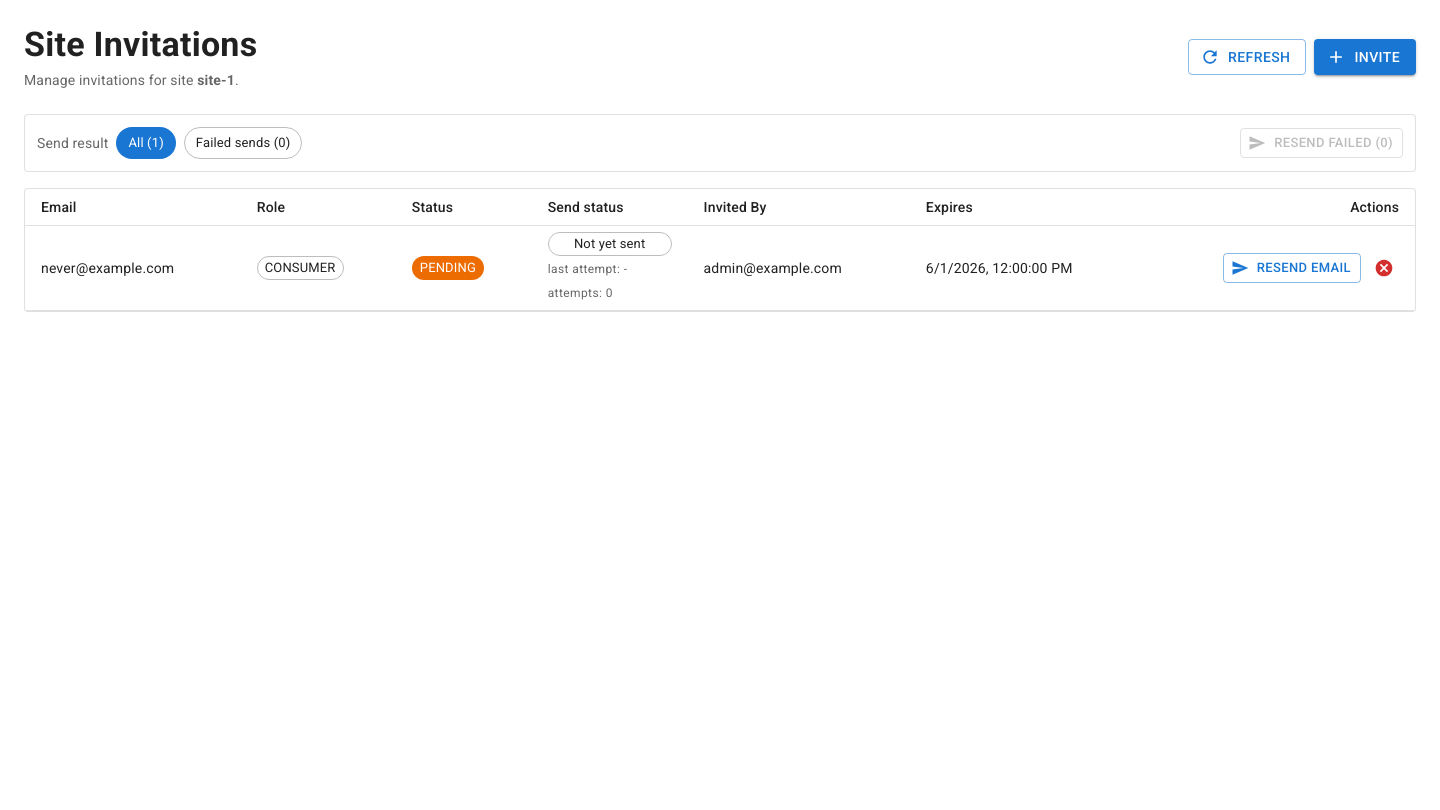
Test: SiteInvitationsPage Resend confirmation flow › keeps the dialog open and surfaces DTO failure when resend returns FAILED
expect the text "never@example.com" is shown: met, box x1=41 y1=260 x2=174 y2=276
Step 1. Click the button with aria-label "Resend invitation to never@example.com" → [1292, 268], box x1=1223 y1=252 x2=1361 y2=283
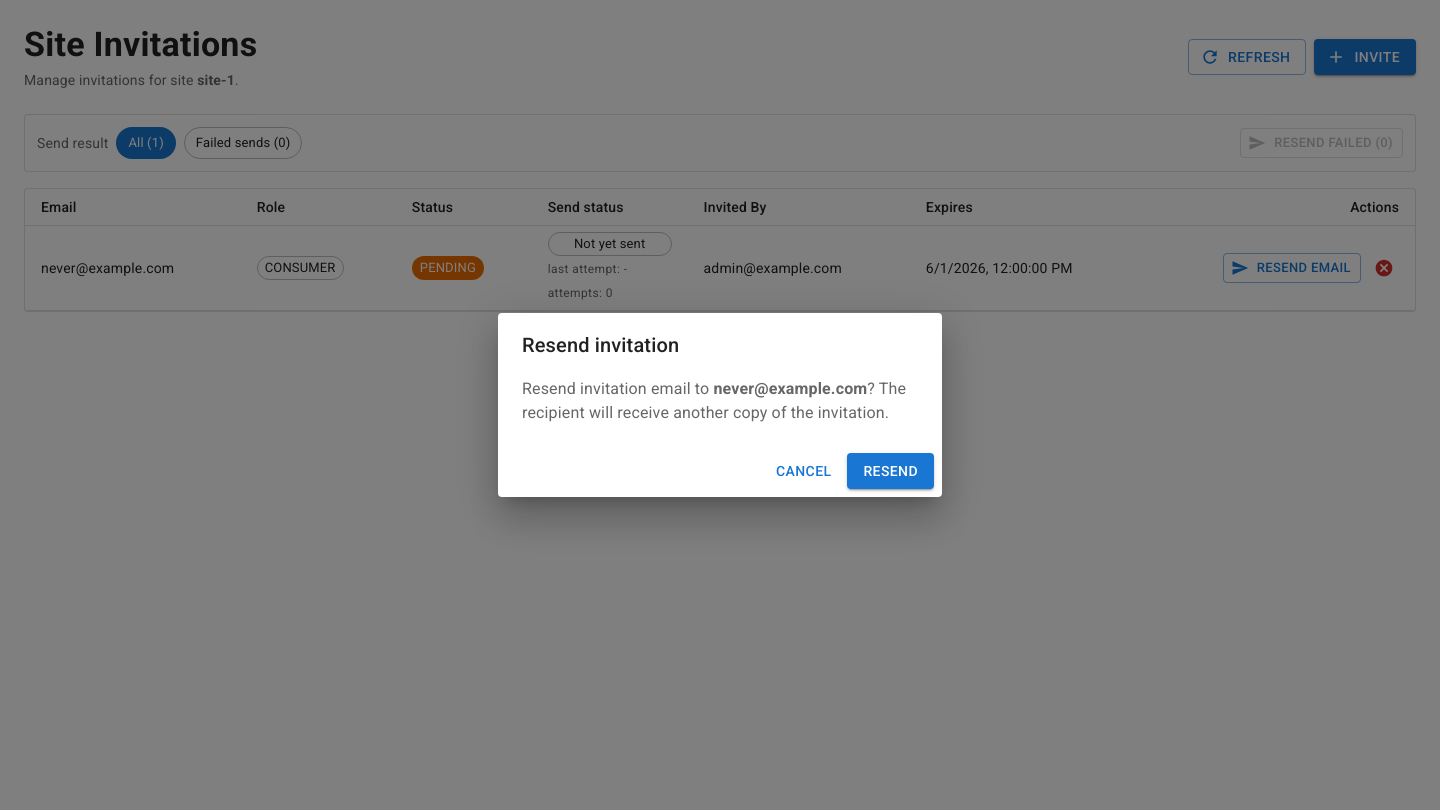
Step 2. Click the button "Resend" → [891, 471], box x1=847 y1=453 x2=934 y2=489
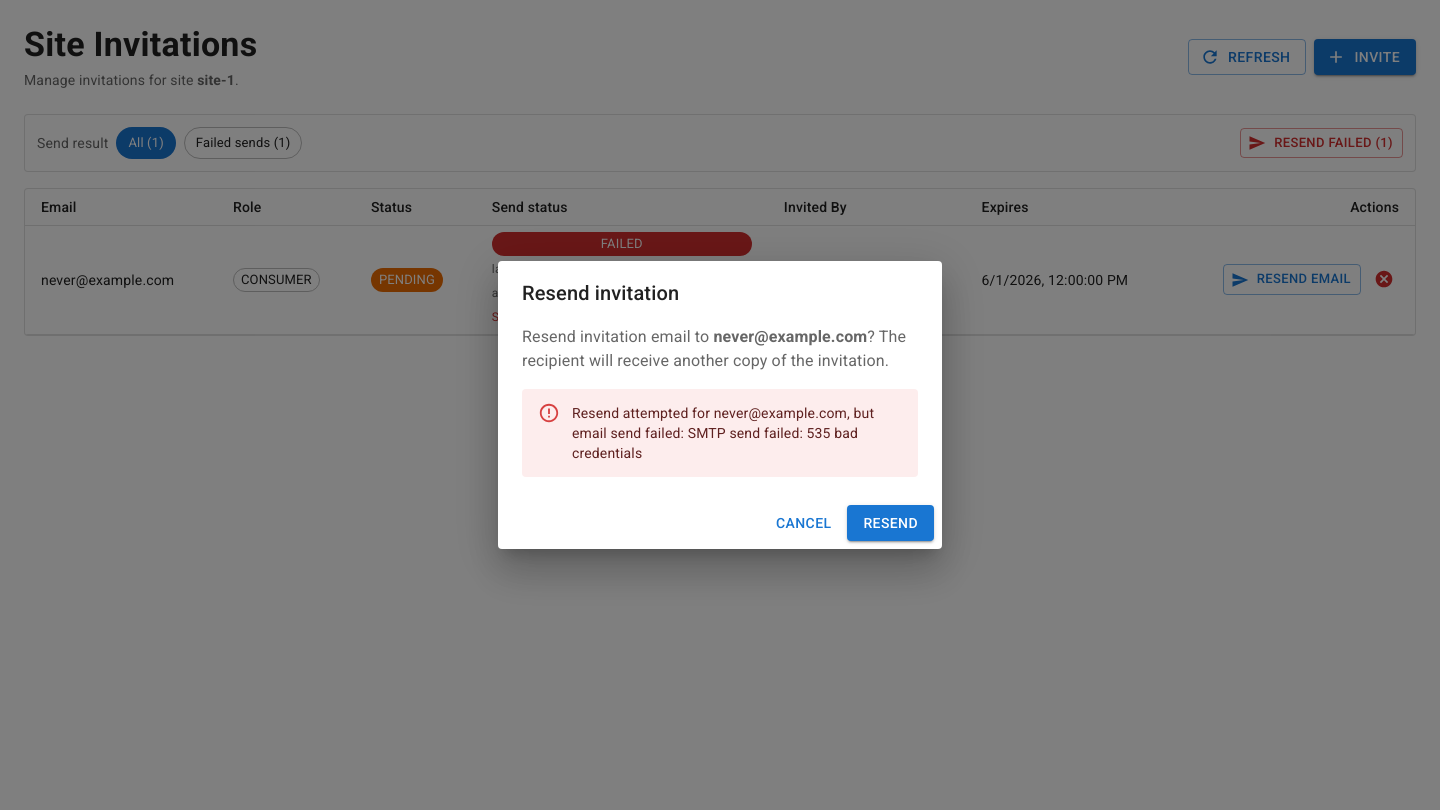
expect the dialog "Resend invitation" is shown: met, box x1=498 y1=261 x2=942 y2=549
expect the message with test id "resend-invitation-error" shows "SMTP send failed: 535 bad credentials": met, box x1=572 y1=405 x2=874 y2=461
expect the text "FAILED" is shown: met, box x1=601 y1=236 x2=643 y2=251
